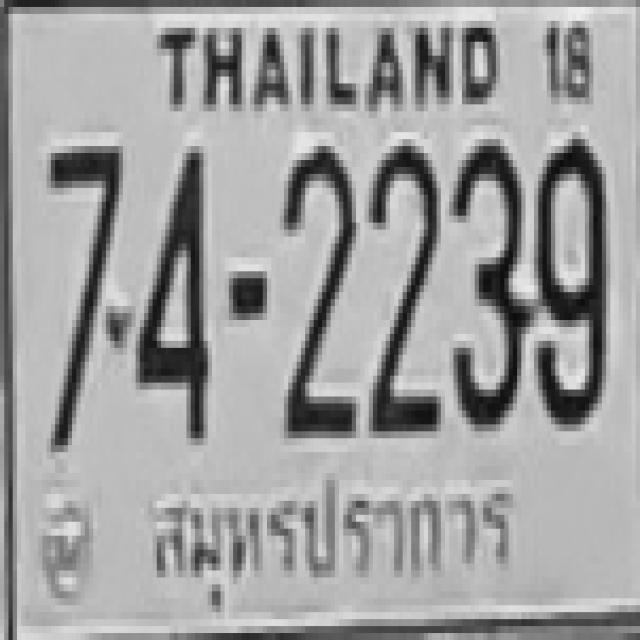2: (368, 143, 440, 435), (282, 143, 354, 434)
3: (449, 142, 526, 427)
4: (136, 148, 208, 440)
7: (46, 139, 118, 445)
9: (536, 136, 608, 421)
SamutPrakan: (142, 474, 523, 599)
